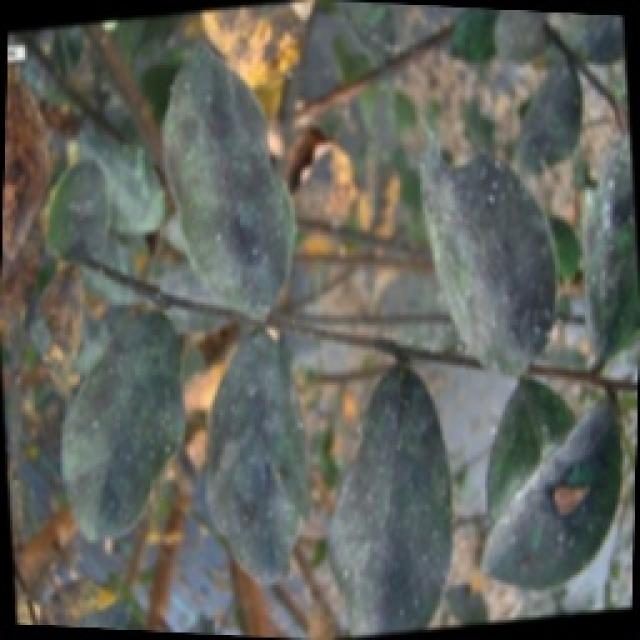Sooty Mold: (5, 5, 637, 633)
